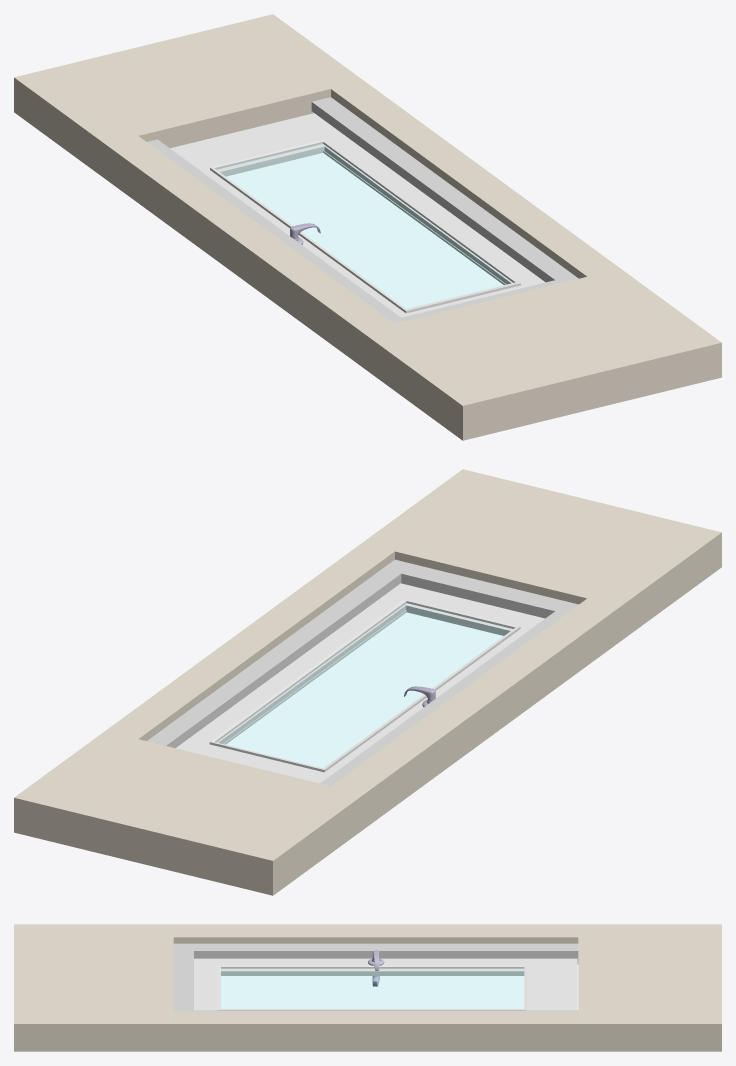
The model's file is Door02.gltf.
3 views of the same model, one above another, from view 1: azimuth 30°, elevation 25°; view 2: azimuth 150°, elevation 25°; view 3: azimuth 270°, elevation 25° (orthographic). The views are drawn at different scales.
Visible parts, largest first — view 1: SIP, Door, DoorFrame; view 2: SIP, Door, DoorFrame; view 3: SIP, Door, DoorFrame, DoorHandle.
Part boxes in pixels (left/top/right/bottom): SIP: left=14, top=14, right=721, bottom=440; Door: left=170, top=113, right=545, bottom=317; DoorFrame: left=147, top=97, right=578, bottom=323; SIP: left=14, top=469, right=721, bottom=895; Door: left=176, top=583, right=544, bottom=783; DoorFrame: left=147, top=559, right=578, bottom=785; SIP: left=14, top=924, right=721, bottom=1051; Door: left=194, top=958, right=577, bottom=1010; DoorFrame: left=173, top=943, right=578, bottom=1011; DoorHandle: left=368, top=950, right=384, bottom=986.
Bounding box in the file's own units: 1.17 × 0.1801 × 3.5.
